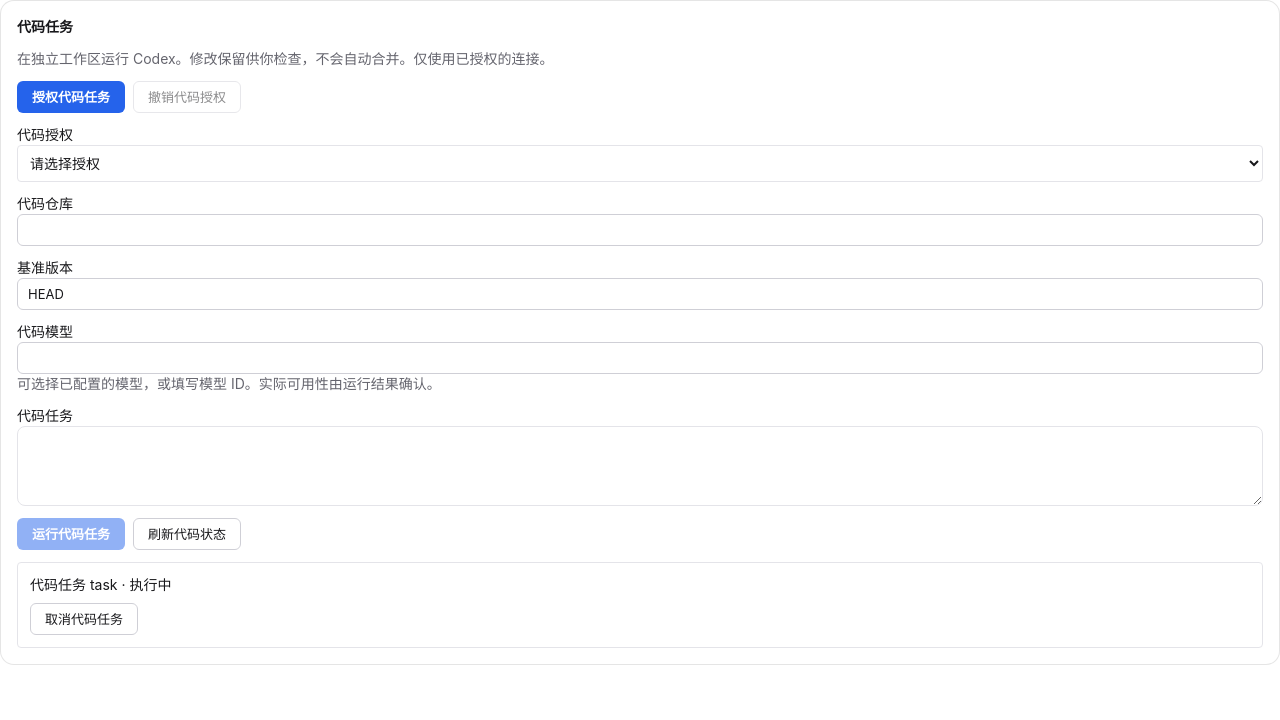
Test: preserves a authorize failure when the earlier model request finishes with success
Click the button "授权代码任务": point(71, 97) [17,81,125,113]
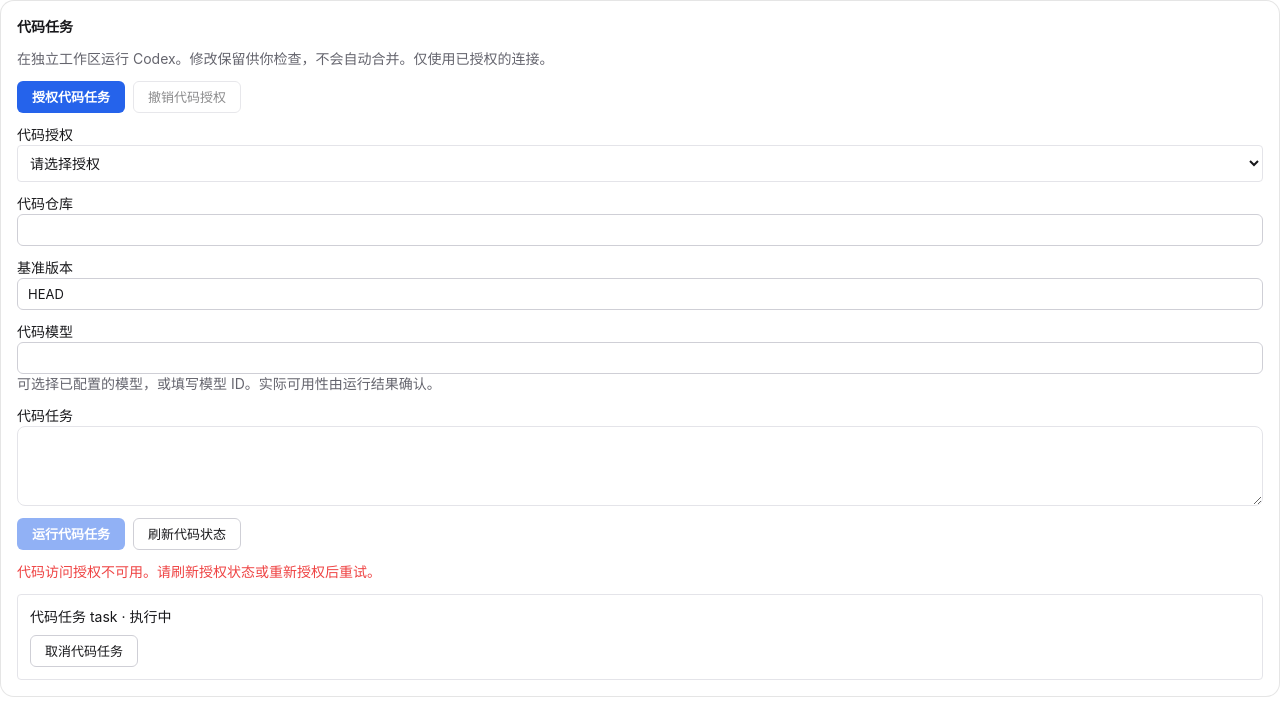
Expected: the message reads "代码访问授权不可用。请刷新授权状态或重新授权后重试。", [17,563,381,580]
